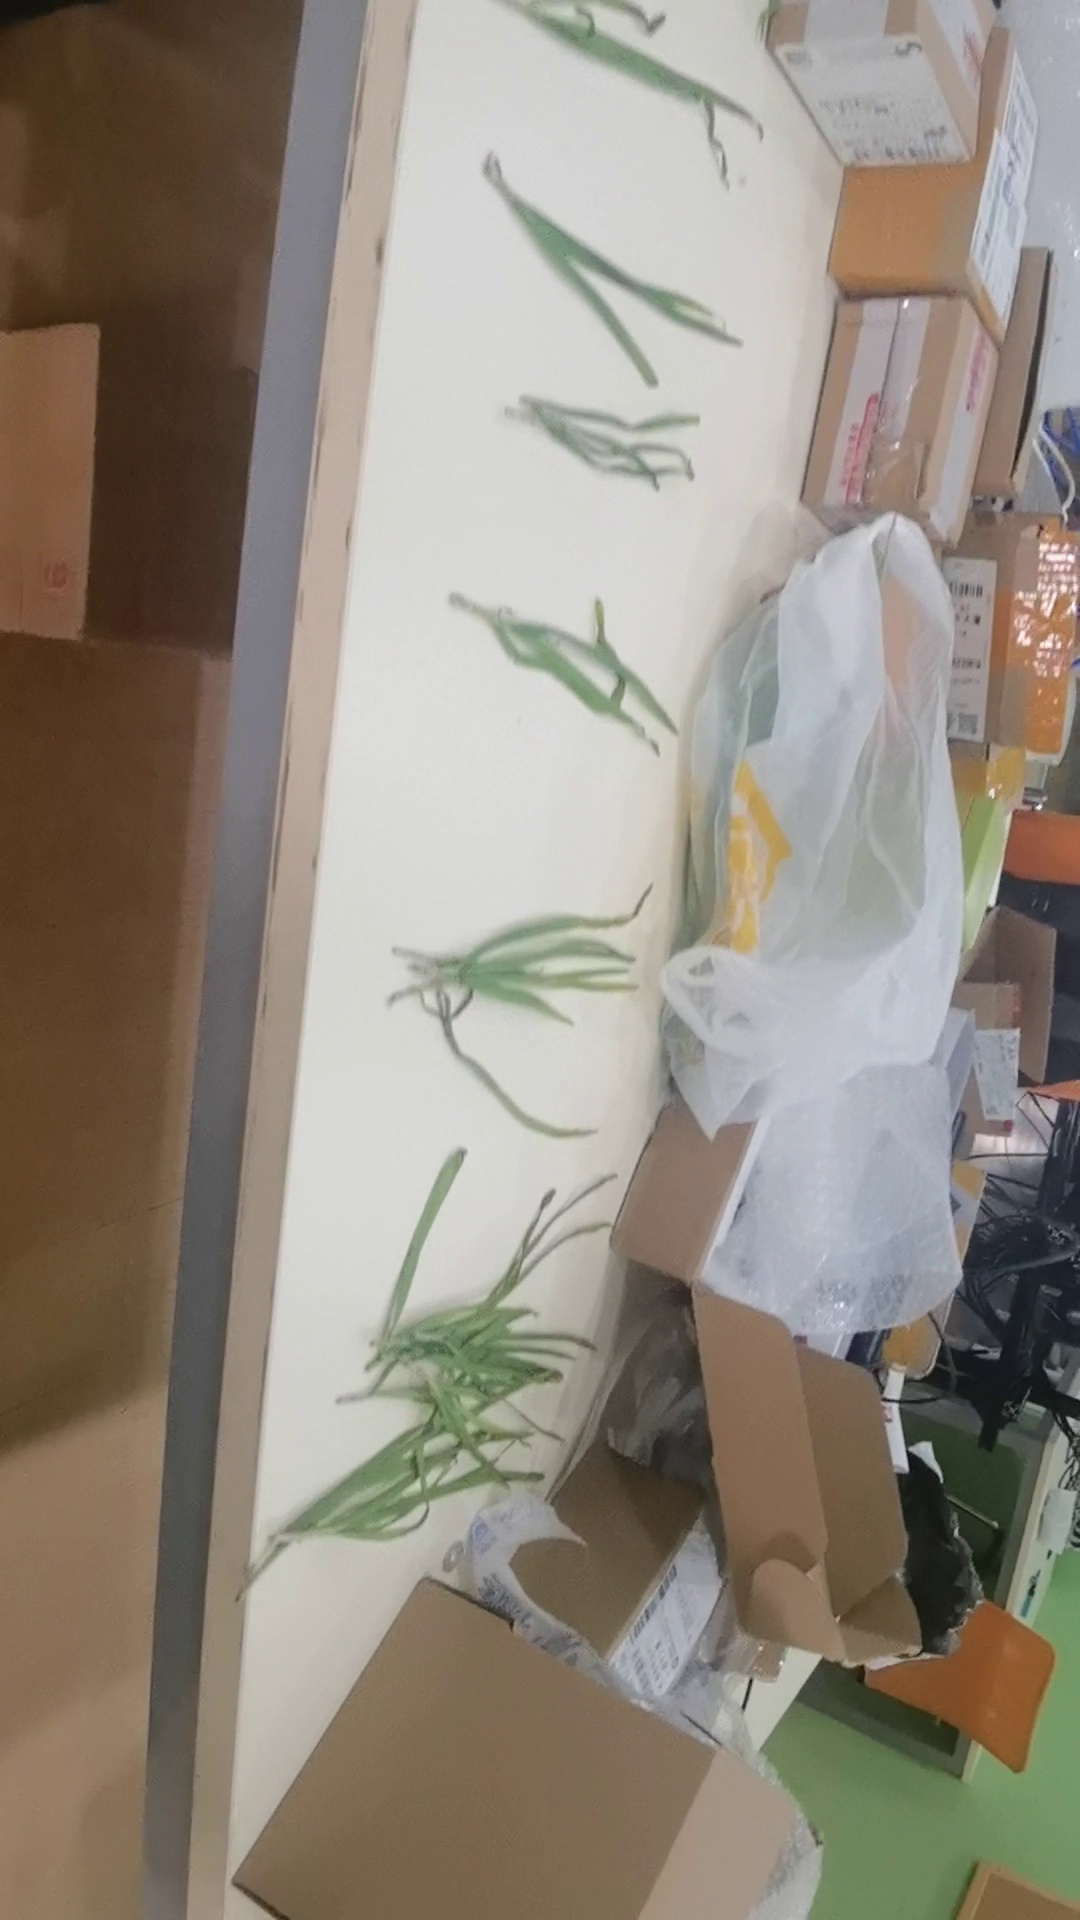chives: (269, 1231, 653, 1525), (371, 1, 802, 180), (430, 149, 753, 372), (353, 898, 659, 1129), (447, 572, 777, 776), (467, 390, 763, 556)
